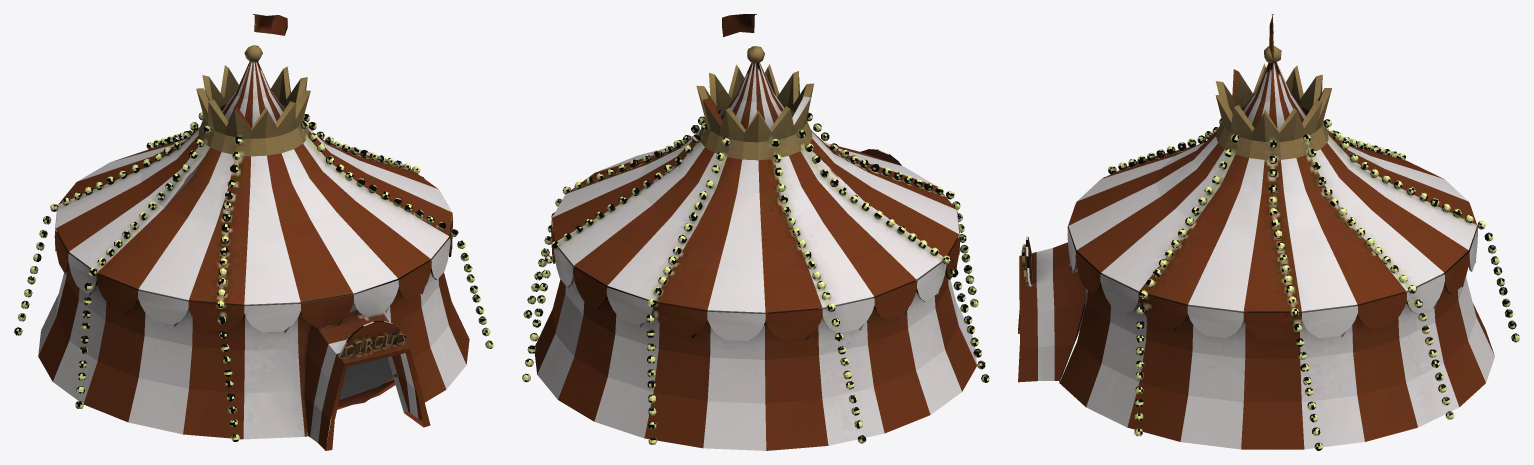
Rendered from tent_small.glb.
3 views of the same model, side by side, from view 1: azimuth 30°, elevation 25°; view 2: azimuth 150°, elevation 25°; view 3: azimuth 270°, elevation 25° (orthographic). The views are drawn at different scales.
Parts seen in each view (by area): view 1: baked; view 2: baked; view 3: baked.
Part boxes in pixels (<box>): baked: <box>14,14,493,450</box>; baked: <box>522,14,989,450</box>; baked: <box>1018,14,1519,450</box>.
Bounding box in the file's own units: 0.0735 × 0.0577 × 0.0767.
1 material, 1 textured.
